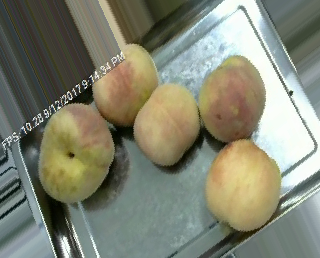Peach: (37, 103, 116, 203), (204, 140, 281, 231), (128, 84, 202, 170), (198, 54, 266, 142), (90, 46, 161, 127)
